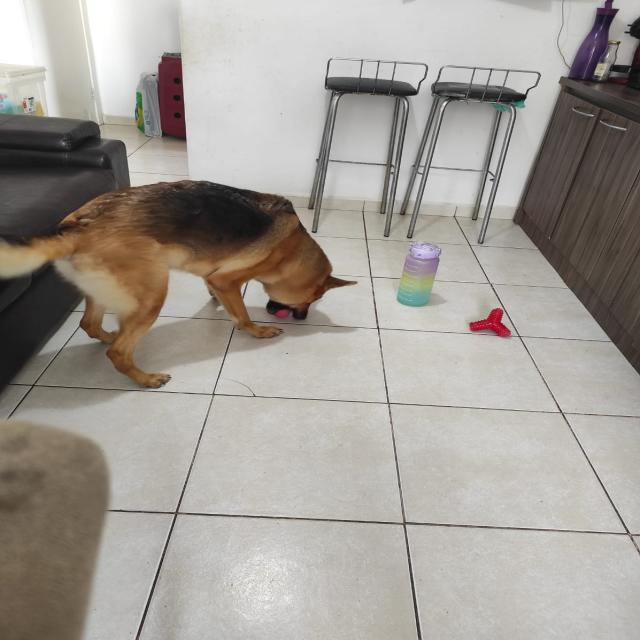bolinha: (274, 299, 297, 322)
brinquedo caro: (464, 308, 516, 340)
cachorro: (8, 179, 348, 358)
garrafinha de agua: (389, 243, 446, 313)
